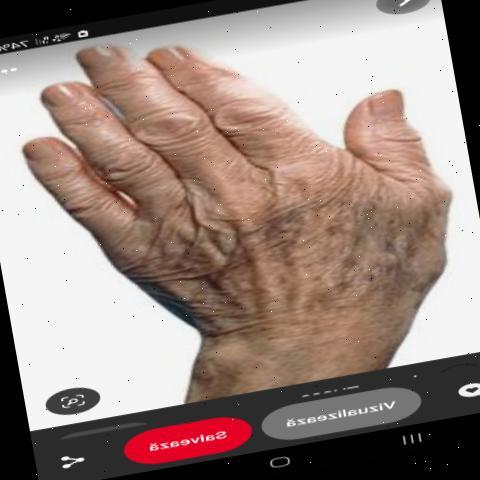Hands: (18, 12, 453, 398)
